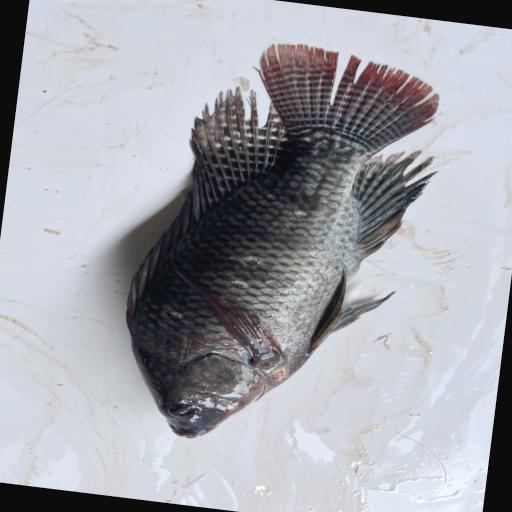Tilapia: (111, 27, 454, 466)
